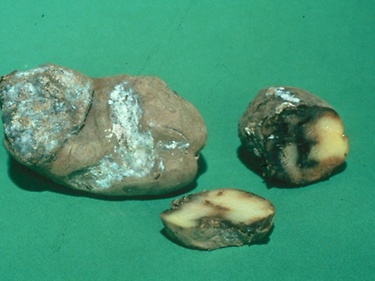Fusarium: (1, 72, 81, 166), (109, 84, 159, 176), (267, 89, 317, 144)
